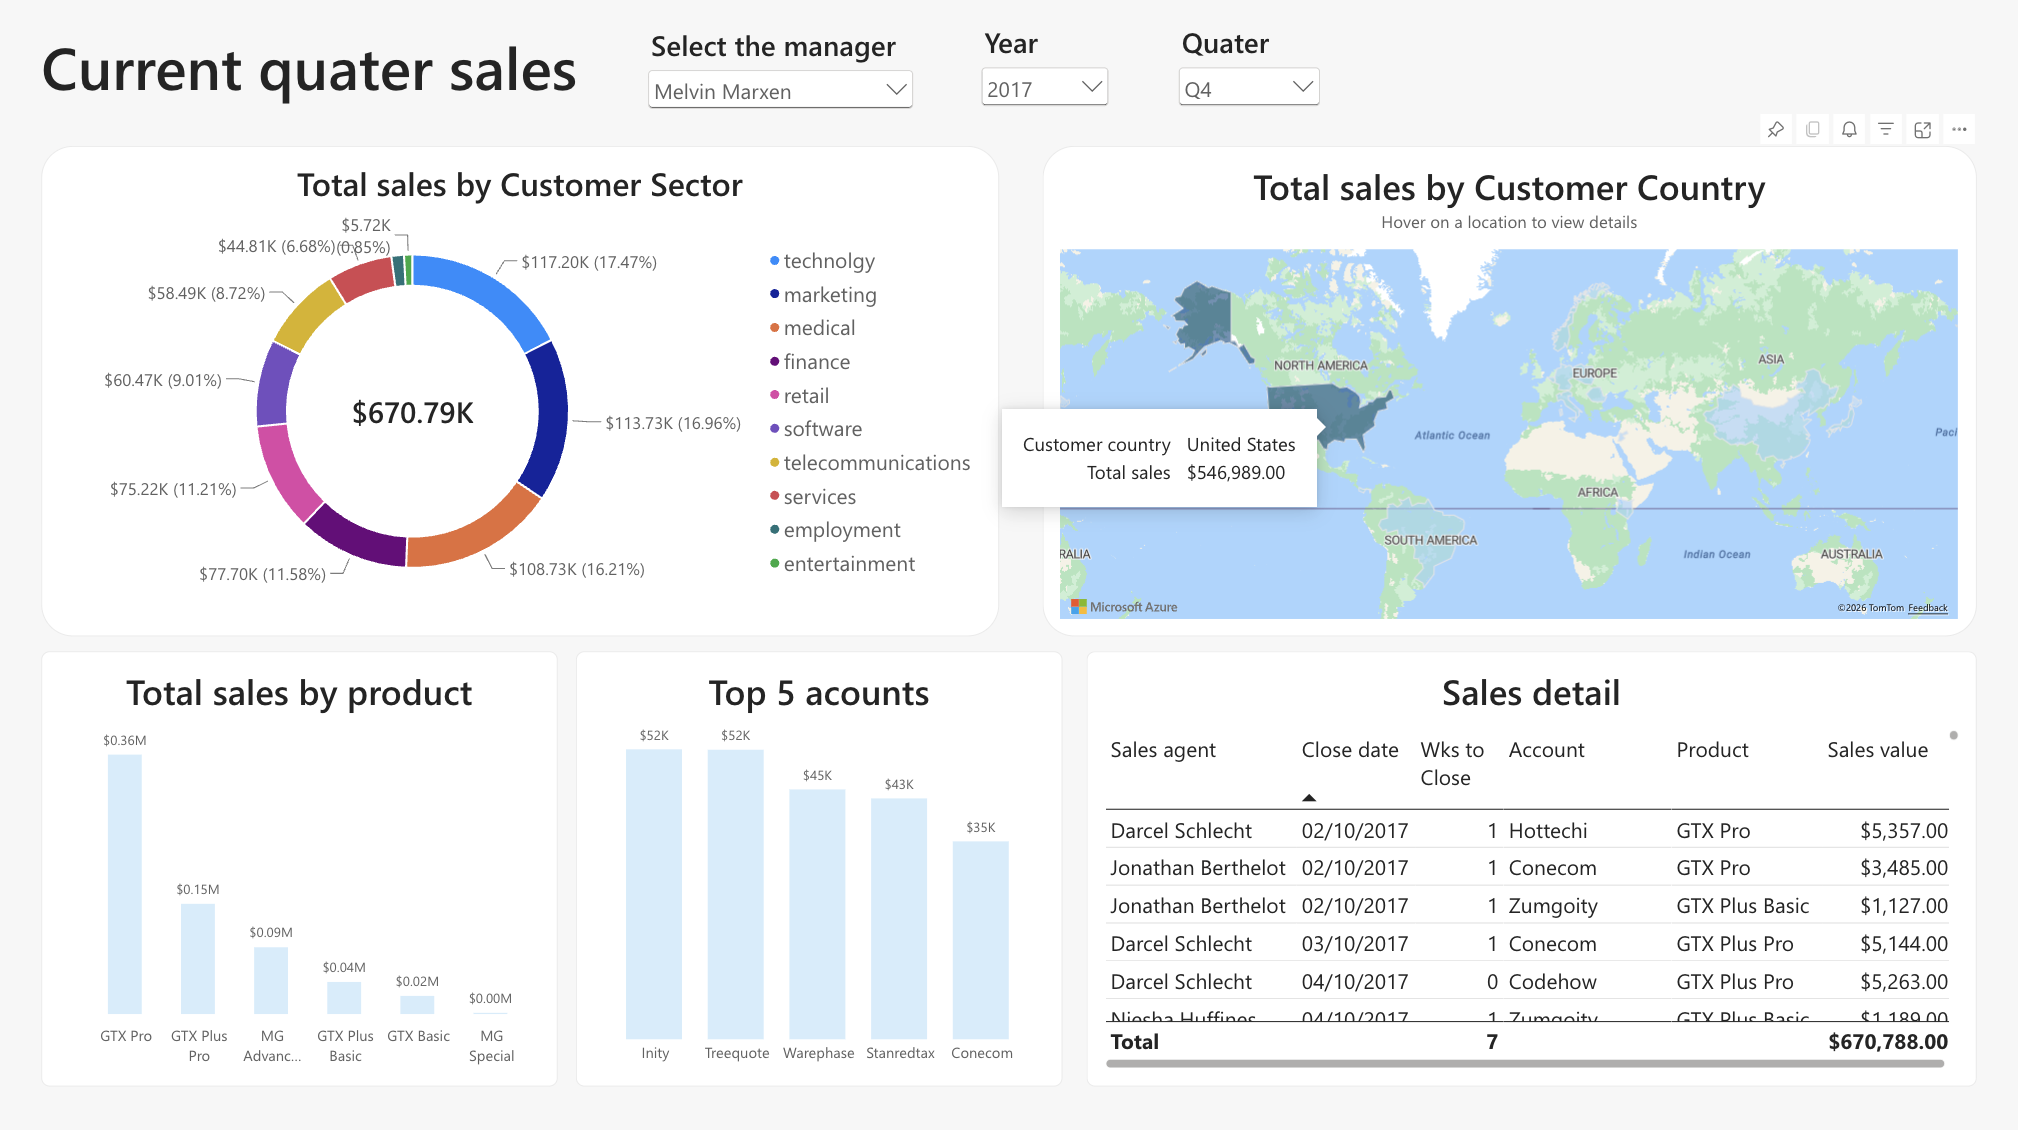

The dashboard page shown, as its layout file describes it:
{"tool":"powerbi","page":{"name":"Page 2","canvas":[1920,1080],"ordinal":1},"visuals":[{"type":"textbox","box":[39.5,26.4,775.5,97.9],"z":0},{"type":"slicer","fields":{"Values":["sales_teams 1.manager"]},"box":[611.8,26.4,262.6,101.8],"z":1000},{"type":"slicer","fields":{"Values":["Calendar.Year"]},"box":[928,24.5,131.3,101.8],"z":2000},{"type":"slicer","fields":{"Values":["Calendar.Quarter"]},"box":[1116.2,24.5,144.4,101.8],"z":3000},{"type":"donutChart","title":"Total sales by Customer Sector","fields":{"Category":["accounts 1.sector"],"Y":["sales_pipeline 1.Won revenue"]},"box":[39.5,141.2,911,466.1],"z":4000},{"type":"azureMap","title":"Total sales by Customer Country","fields":{"Category":["accounts 1.office_location"]},"box":[992,141.2,888.5,466.8],"z":5000},{"type":"clusteredColumnChart","title":"Total sales by product","fields":{"Category":["sales_pipeline 1.product"],"Y":["sales_pipeline 1.Won revenue"]},"box":[39.5,621.2,491.3,414.1],"z":6000},{"type":"clusteredColumnChart","title":"Top 5 acounts","fields":{"Category":["accounts 1.account"],"Y":["sales_pipeline 1.Won revenue"]},"box":[547.8,621.2,463.1,414.1],"z":7000},{"type":"tableEx","title":"Sales detail","fields":{"Values":["sales_pipeline 1.sales_agent","sales_pipeline 1.close_date","sales_pipeline 1.Weeks to Close","sales_pipeline 1.account","sales_pipeline 1.product","sales_pipeline 1.Won revenue"]},"box":[1033.4,621.2,847,414.1],"z":8000}]}

Visuals, with their boxes in screenshot pixels (x1, y1, x2, y2), scaled from the page's 1920x1080 canvas onto the 2018x1130 screenshot:
textbox: bbox=(42, 28, 857, 130)
slicer - sales_teams 1.manager: bbox=(643, 28, 919, 134)
slicer - Calendar.Year: bbox=(975, 26, 1113, 132)
slicer - Calendar.Quarter: bbox=(1173, 26, 1325, 132)
"Total sales by Customer Sector" donutChart: bbox=(42, 148, 999, 635)
"Total sales by Customer Country" azureMap: bbox=(1043, 148, 1976, 636)
"Total sales by product" clusteredColumnChart: bbox=(42, 650, 558, 1083)
"Top 5 acounts" clusteredColumnChart: bbox=(576, 650, 1062, 1083)
"Sales detail" tableEx: bbox=(1086, 650, 1976, 1083)
